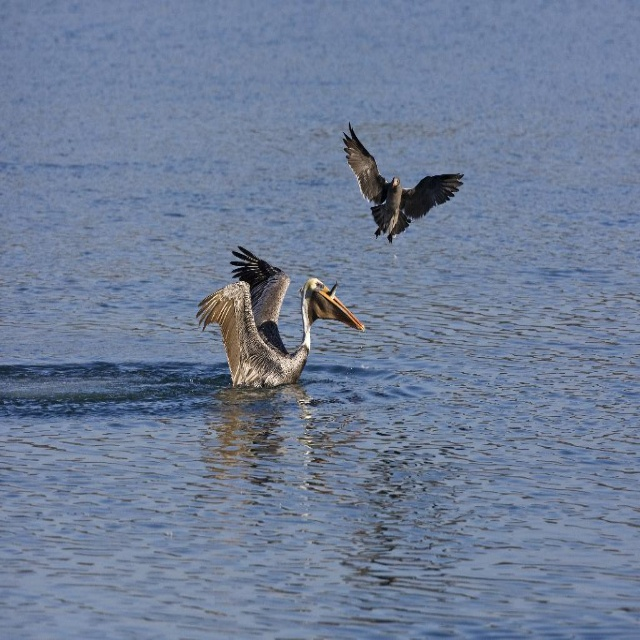Eagle: (342, 112, 466, 247)
